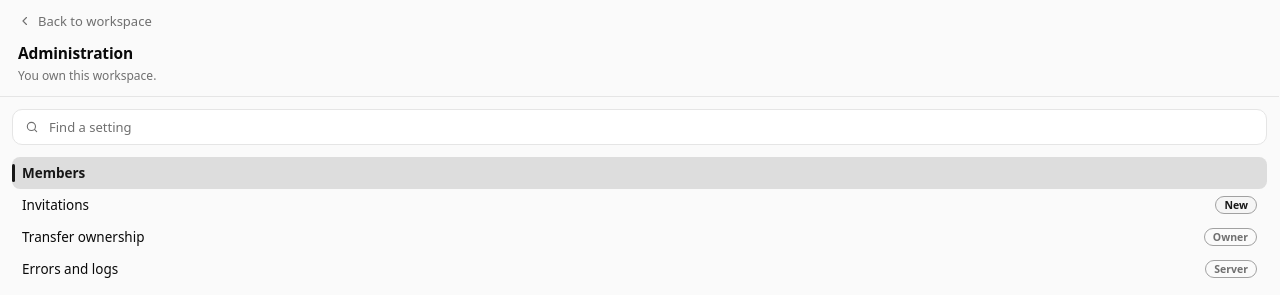
Test: the console nav › finds a section by keyword rather than label alone
Type "roles" into the field named "Filter sections" at coordinates (650, 127), box [47,110,1254,144]
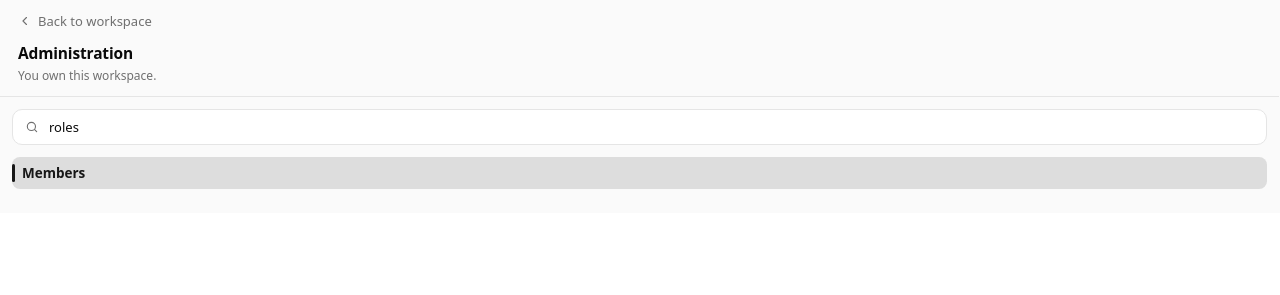
Expected: the text "Members" is shown, [22,164,85,182]
Expected: the button "Invitations" is gone
